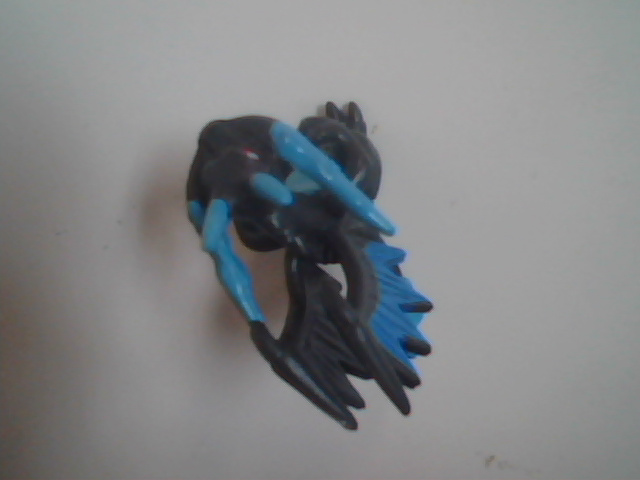charizard: (136, 79, 509, 447)
